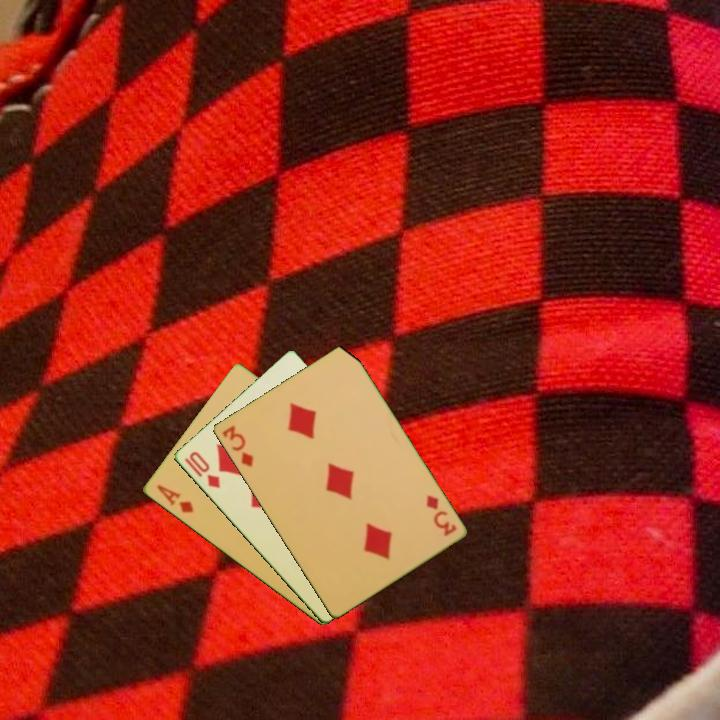10d: (185, 447, 223, 491)
3d: (218, 421, 256, 470), (422, 491, 459, 539)
Ad: (153, 481, 196, 516)
